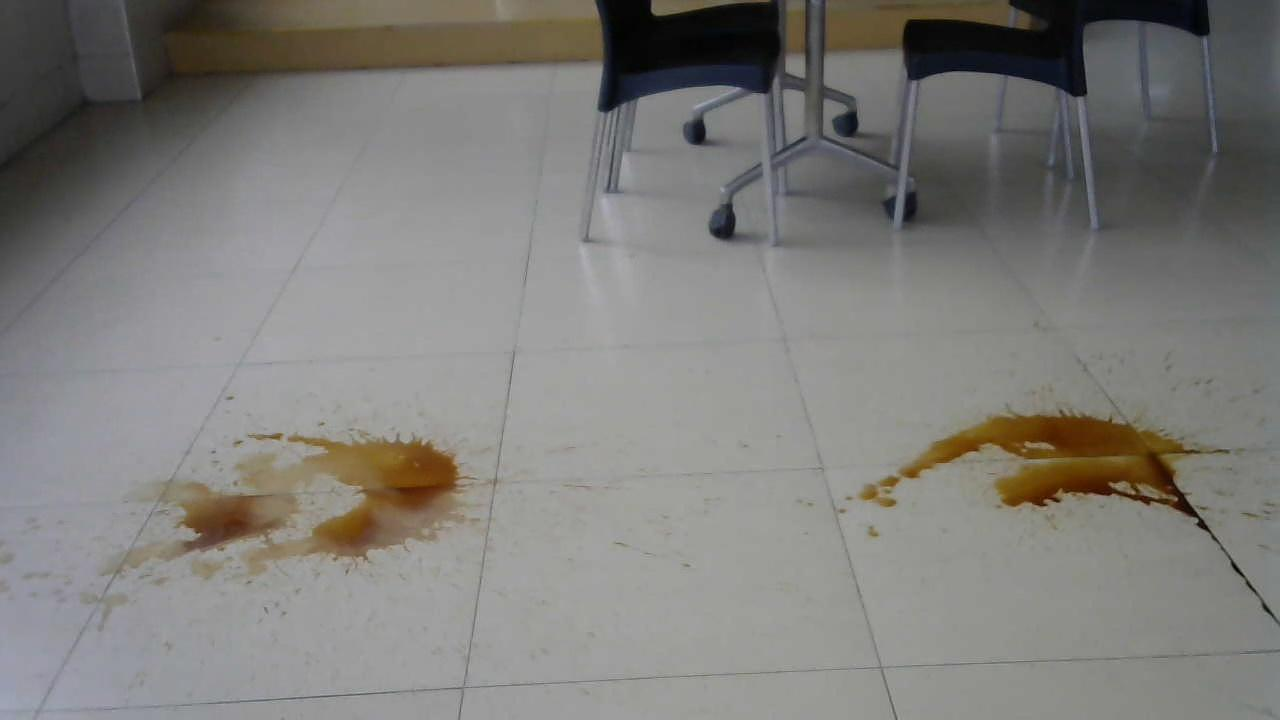dirty_floor: (817, 380, 1262, 576), (119, 418, 488, 577)
